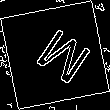M_SW: (21, 21, 89, 89)
